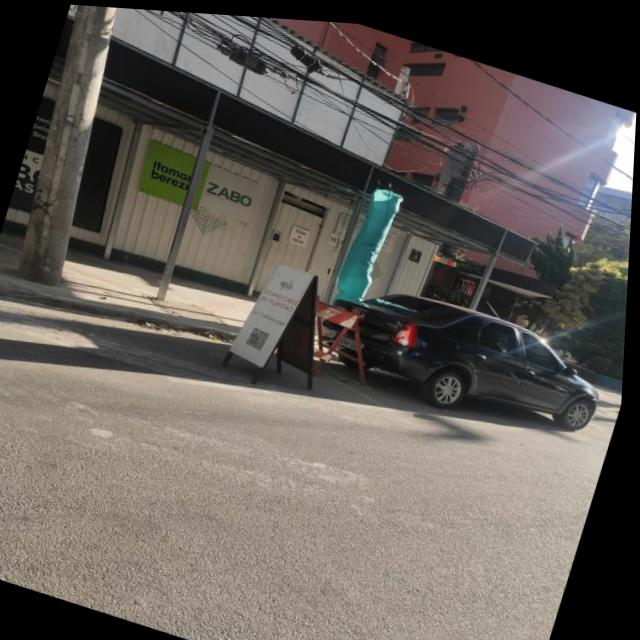qrcode: (249, 324, 274, 349)
